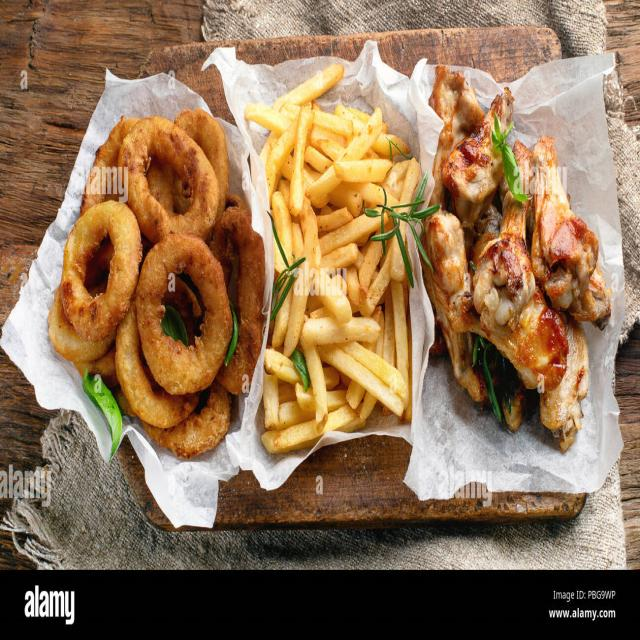Chicken Wings: (426, 64, 614, 472)
French Fries: (241, 61, 432, 462)
Onion Rings: (53, 74, 266, 476)
